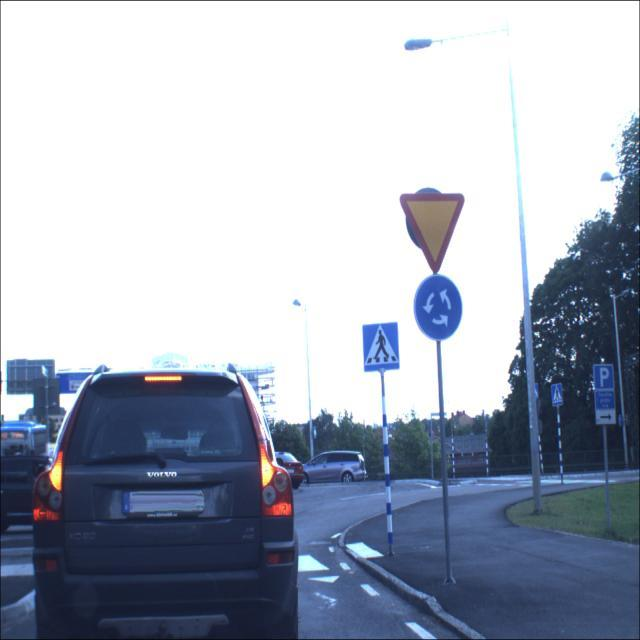181: (592, 391, 618, 426)
Give way -Yield-: (398, 183, 470, 277)
Parking: (592, 359, 616, 392)
Pedestrian crossing: (359, 316, 404, 374), (548, 381, 566, 408)
Roundabout: (409, 272, 466, 342)
